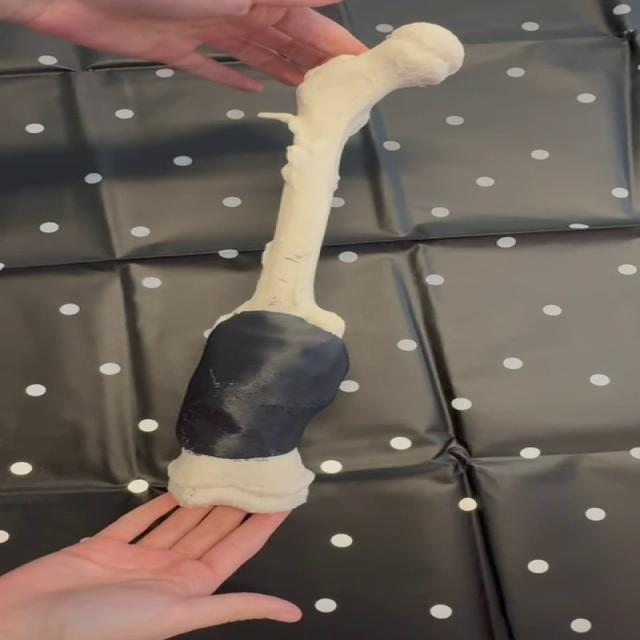bones: (168, 23, 463, 513)
